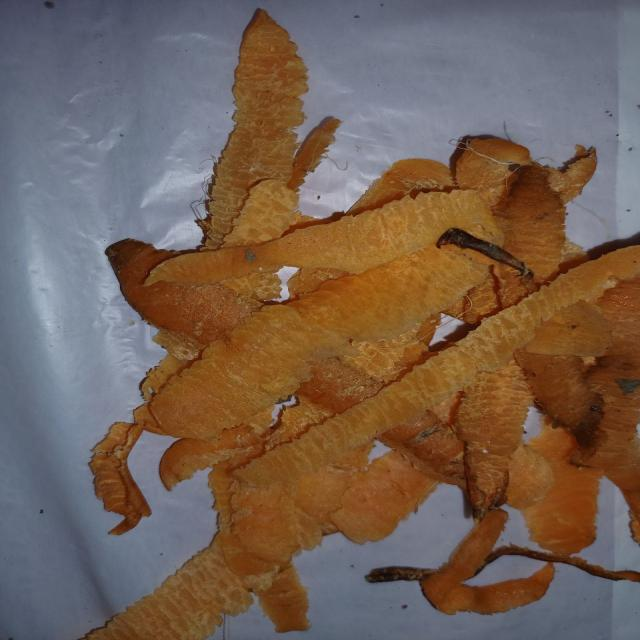organic: (86, 6, 640, 639)
